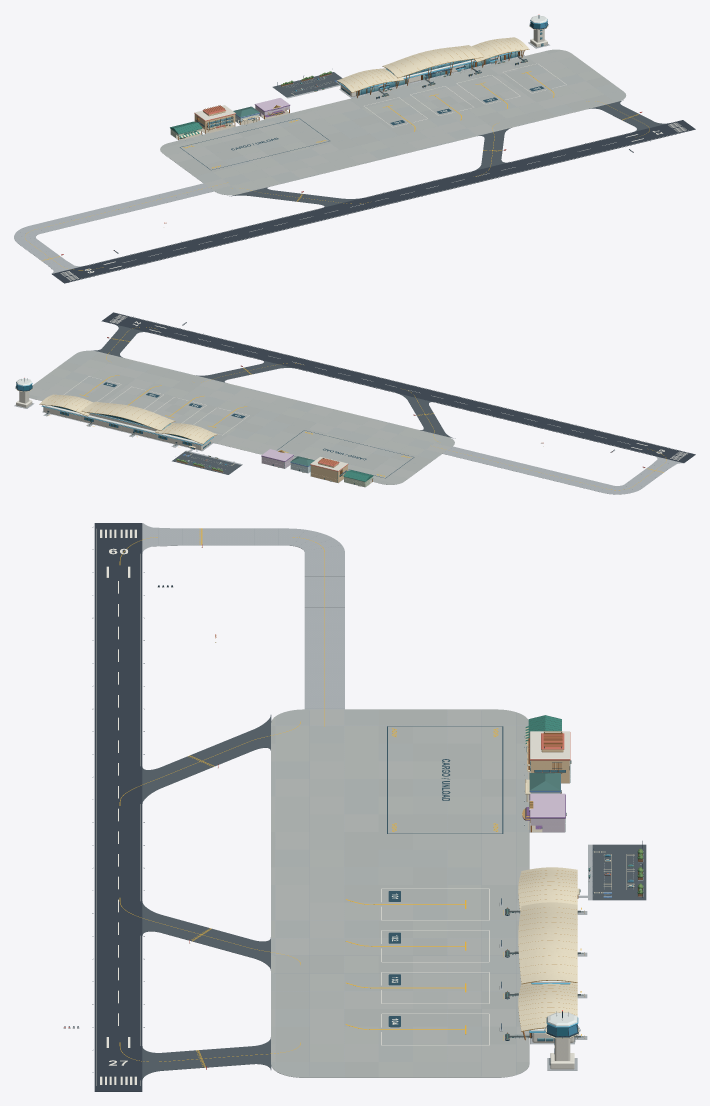
Rendered from Airport_Core.glb.
The picture shows the model from 3 angles, top to bottom: view 1: azimuth 30°, elevation 25°; view 2: azimuth 150°, elevation 25°; view 3: azimuth 270°, elevation 25°; orthographic projection. The views are drawn at different scales.
Parts seen in each view (by area): view 1: Apron | Cast concrete panel finish, Runway 09-27 | Asphalt slab-col, West taxiway | Continuous L pavement-col, Terminal | Central shell roof, Exit_01_West | Radiused junctions-col, Terminal | West shell roof, Landside | Parking pavement-col, Terminal | East shell roof, Exit_03_East | Radiused junctions-col, Exit_02_Central | Radiused junctions-col; view 2: Apron | Cast concrete panel finish, Runway 09-27 | Asphalt slab-col, West taxiway | Continuous L pavement-col, Terminal | Central shell roof, Terminal | Main building-col, Exit_01_West | Radiused junctions-col, Landside | Parking pavement-col, Exit_02_Central | Radiused junctions-col, Terminal | West shell roof, Exit_03_East | Radiused junctions-col, Terminal | East shell roof, Terminal | Main rounded roof; view 3: Apron | Cast concrete panel finish, Runway 09-27 | Asphalt slab-col, West taxiway | Continuous L pavement-col, Terminal | Central shell roof, Exit_01_West | Radiused junctions-col, Landside | Parking pavement-col, Exit_02_Central | Radiused junctions-col, Exit_03_East | Radiused junctions-col, Terminal | East shell roof, Apron | Continuous concrete slab-col, Terminal | West shell roof, Apron | Concrete expansion seams (+1 smaller).
Part boxes in pixels (x1,y1,x2,y2): Apron | Cast concrete panel finish: (160, 49, 626, 195); Runway 09-27 | Asphalt slab-col: (52, 120, 695, 283); West taxiway | Continuous L pavement-col: (14, 183, 214, 272); Terminal | Central shell roof: (382, 45, 483, 78); Exit_01_West | Radiused junctions-col: (231, 187, 360, 207); Terminal | West shell roof: (336, 68, 404, 92); Landside | Parking pavement-col: (272, 72, 342, 97); Terminal | East shell roof: (472, 37, 529, 62); Exit_03_East | Radiused junctions-col: (589, 100, 667, 131); Exit_02_Central | Radiused junctions-col: (475, 127, 511, 170); Apron | Cast concrete panel finish: (29, 350, 454, 484); Runway 09-27 | Asphalt slab-col: (101, 312, 695, 462); West taxiway | Continuous L pavement-col: (442, 446, 677, 494); Terminal | Central shell roof: (82, 401, 175, 430); Terminal | Main building-col: (43, 407, 211, 450); Exit_01_West | Radiused junctions-col: (397, 393, 452, 437); Landside | Parking pavement-col: (172, 451, 241, 474); Exit_02_Central | Radiused junctions-col: (196, 360, 293, 382); Terminal | West shell roof: (155, 423, 217, 444); Exit_03_East | Radiused junctions-col: (94, 324, 146, 357); Terminal | East shell roof: (39, 394, 92, 415); Terminal | Main rounded roof: (42, 405, 212, 444); Apron | Cast concrete panel finish: (271, 709, 529, 1077); Runway 09-27 | Asphalt slab-col: (94, 523, 142, 1091); West taxiway | Continuous L pavement-col: (142, 527, 344, 709); Terminal | Central shell roof: (518, 902, 577, 984); Exit_01_West | Radiused junctions-col: (142, 717, 270, 801); Landside | Parking pavement-col: (592, 844, 646, 900); Exit_02_Central | Radiused junctions-col: (142, 903, 270, 968); Exit_03_East | Radiused junctions-col: (142, 1039, 270, 1078); Terminal | East shell roof: (518, 982, 577, 1031); Apron | Continuous concrete slab-col: (271, 709, 528, 1077); Terminal | West shell roof: (518, 867, 577, 911); Apron | Concrete expansion seams: (274, 711, 519, 1075).
Size of the model in its own units: 900 by 40.26 by 390.
Materials: 62 (16 with a texture image).
